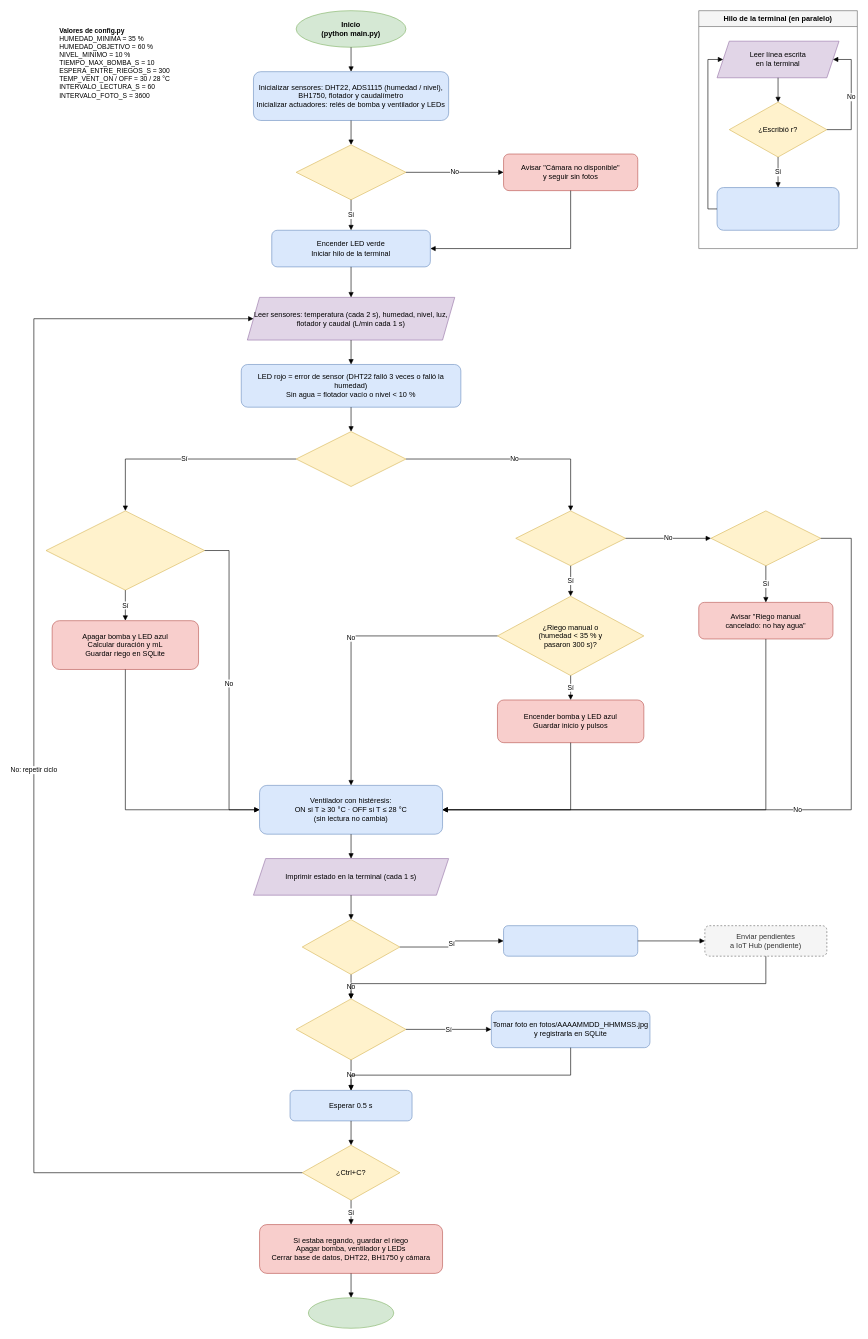
The diagram is 868 pixels wide and 1339 high, and some of its shapes have lost their labels. The centre of each missing label's shape, as x and y in pixels:
Fin: (351,1312)
Guardar lectura en SQLite: (570,940)
riego_manual = True (después vendrá de la app por IoT Hub): (777,208)
¿Bomba encendida?: (351,458)
¿Cámara disponible?: (351,172)
¿Hay agua?: (570,538)
¿Hay cámara y pasó 1 h?: (351,1029)
¿Pasaron 60 s?: (351,946)
¿Riego manual pedido?: (765,538)
¿Sin agua, pasaron 10 s o humedad ≥ 60 % (si no es manual)?: (125,550)
